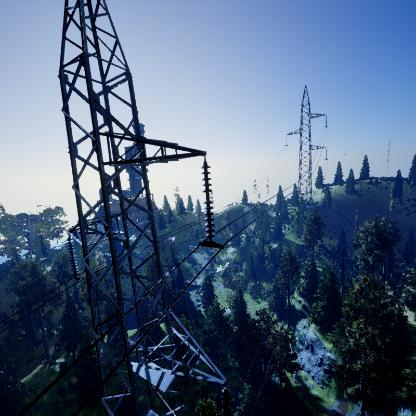insulator: (200, 161, 218, 243), (66, 238, 79, 281)
